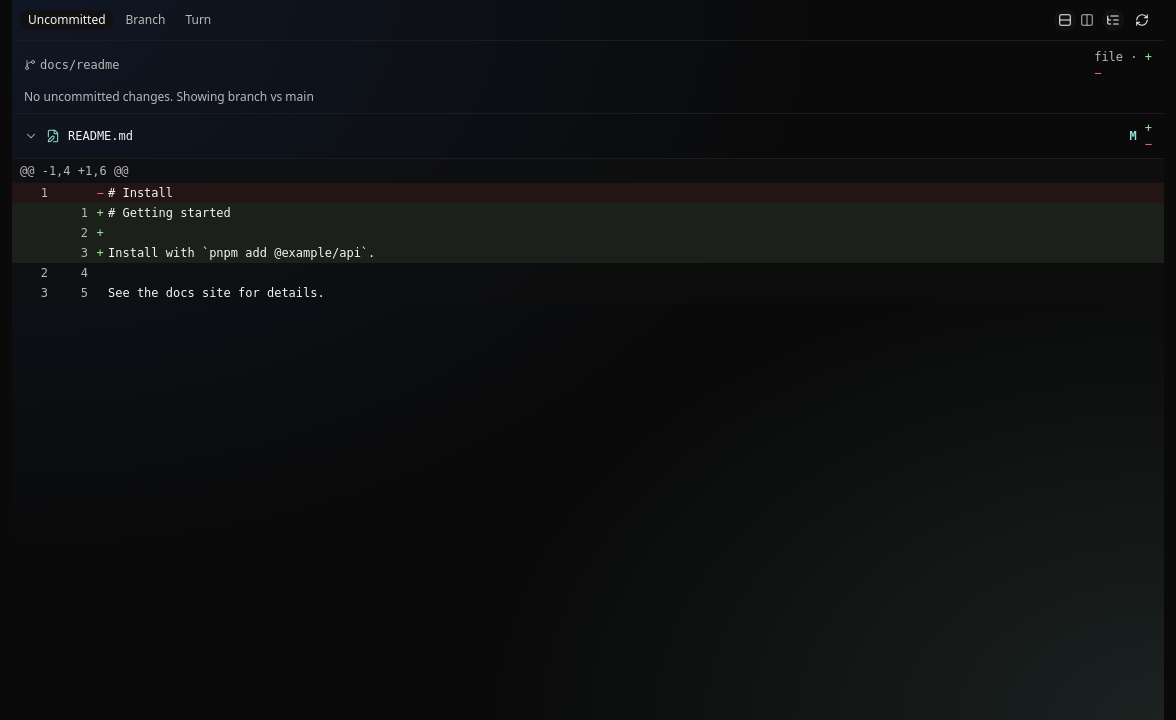
Test: DiffPanel › says when a clean tree falls back to the branch
The width and height of the screenshot is (1176, 720).
expect the text with test id "diff-fallback" reads "No uncommitted changes. Showing branch vs main": met, box [24,88,314,105]
expect the number of list items with test id "diff-file" is 1: met, box [12,114,1164,303]
Click the radio button labelled "Branch".
click(146, 20)  # box [118,10,173,30]
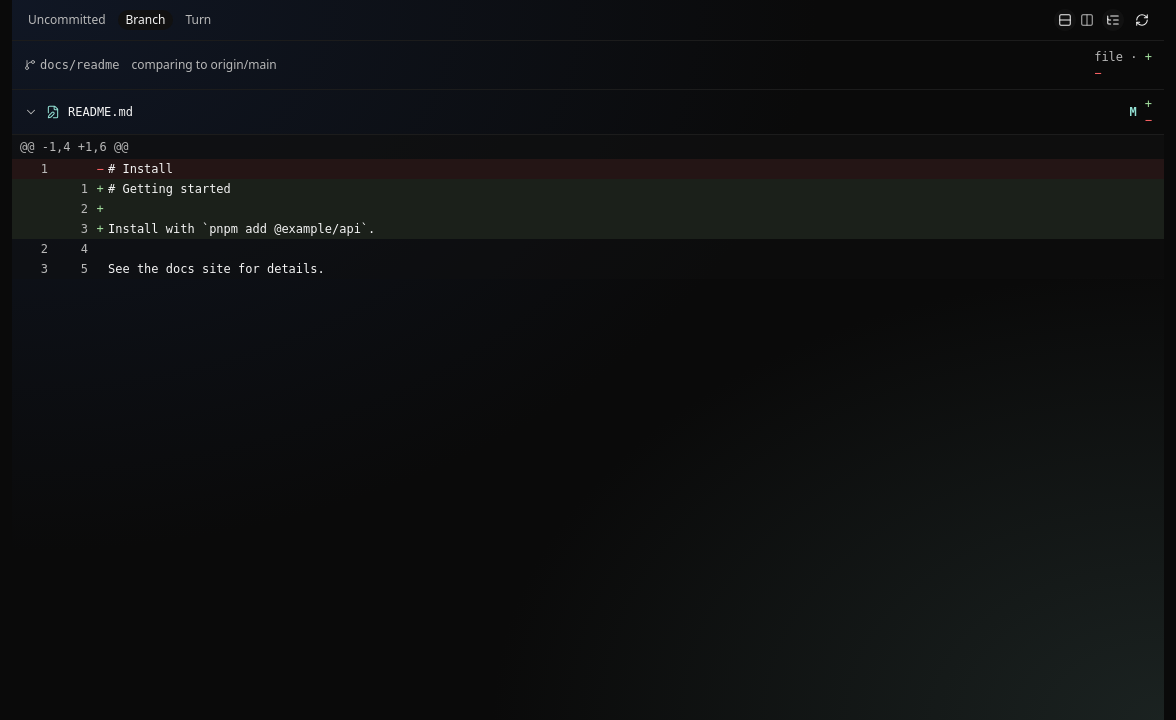
expect the text "comparing to origin/main" is shown: met, box [132,57,277,73]
expect the text with test id "diff-fallback" is gone: met
